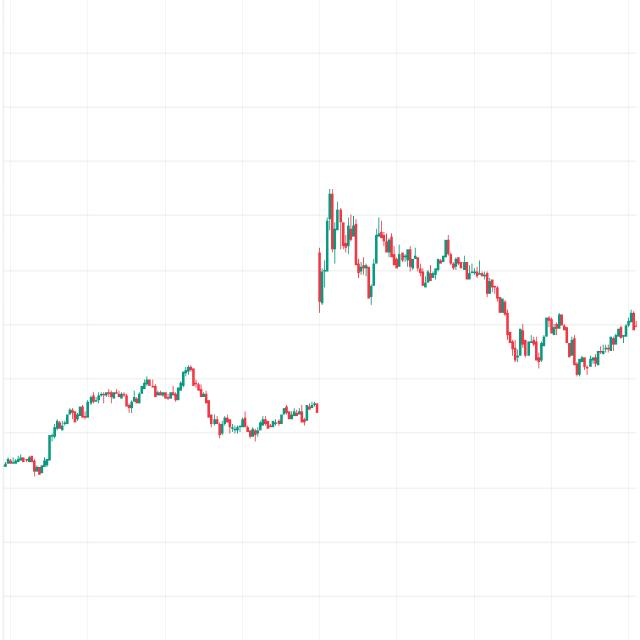Triangle: (308, 175, 496, 351)
